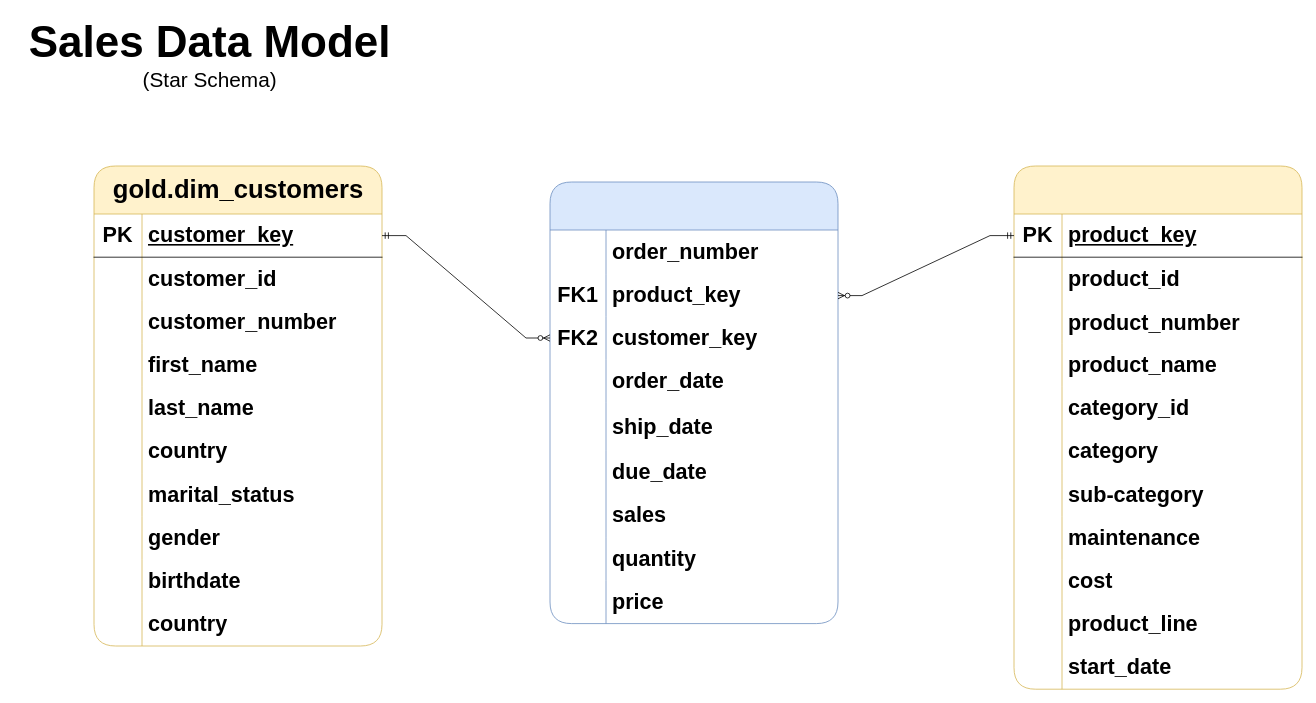
Image size: 1316x703. Some labels were removed from this diagram. The box of each missing label's shape, as (x1, y1, x2, y2) in pixels:
gold.dim_products: (1013, 165, 1302, 689)
gold.fact_sales: (549, 181, 838, 624)
